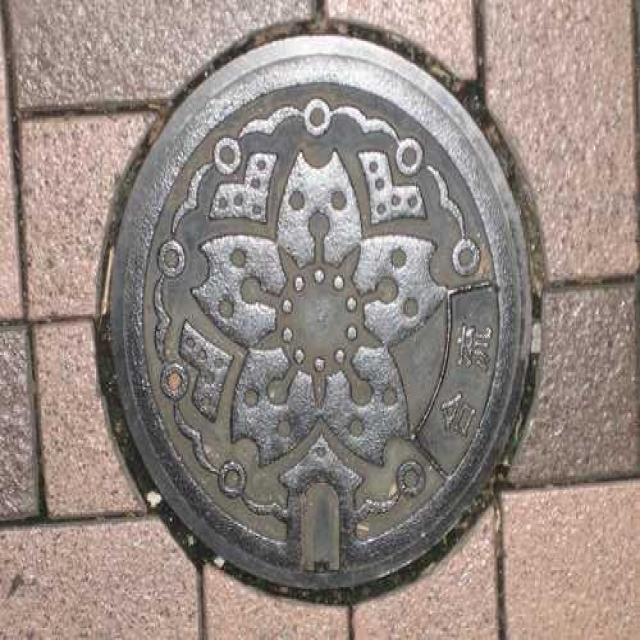manhole: (95, 24, 539, 609)
